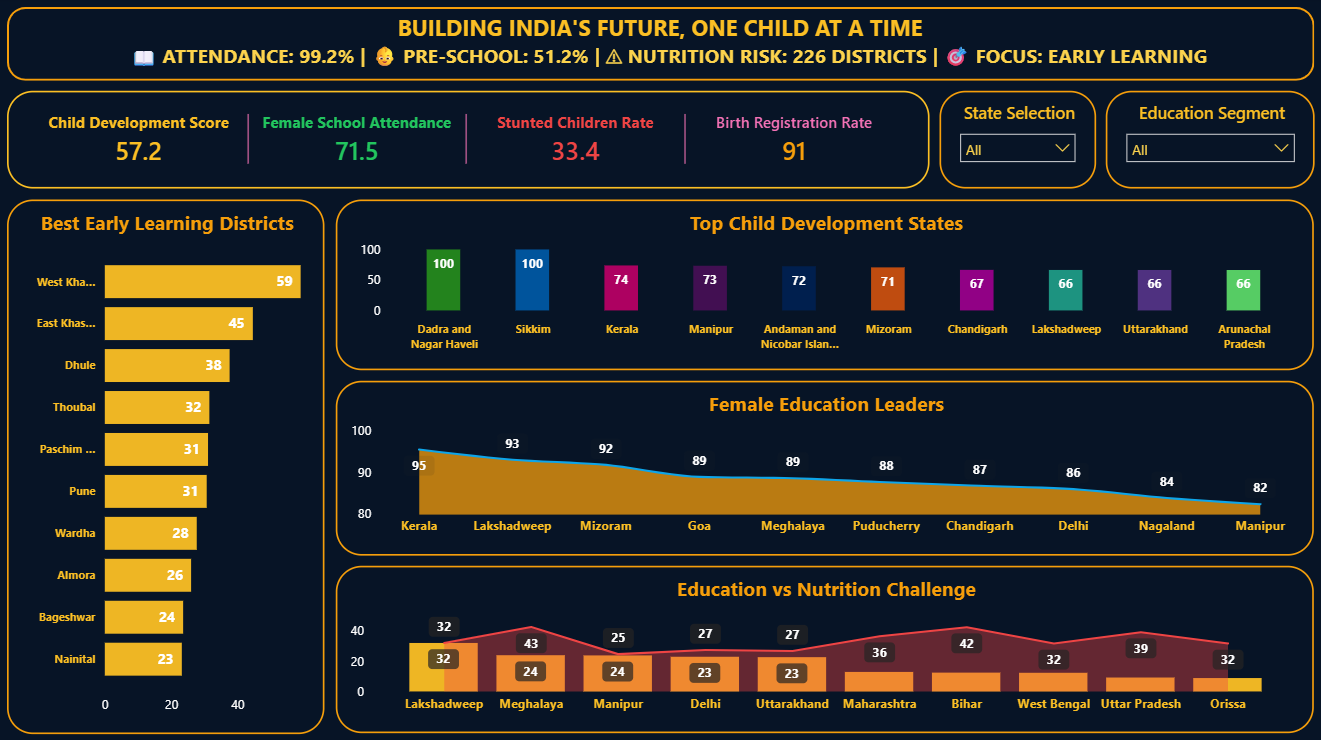

Layout of this report page (visuals, bound fields, positions):
{"tool":"powerbi","page":{"name":"Page 3","canvas":[1280,720],"ordinal":2},"visuals":[{"type":"textbox","box":[9.7,9.7,1260.7,84.5],"z":0},{"type":"cardVisual","fields":{"Data":["Page 3.Education Insight Bar"]},"box":[18.1,9.7,1261.9,92.9],"z":1000},{"type":"shape","box":[9.7,9.7,1261.9,71.2],"z":2000},{"type":"cardVisual","fields":{"Data":["Measure.Child Development Score","Page 3.Avg Female School Attendance","Page 3.Avg Stunting","Page 3.Birth Registration Rate"]},"box":[9.7,90.5,890.4,94.1],"z":3000},{"type":"slicer","title":"State Selection","fields":{"Values":["Dim_District_Profile.State"]},"box":[909.7,90.5,150.8,94.1],"z":4000},{"type":"slicer","title":"Education Segment","fields":{"Values":["Dim_District_Profile.Education Segment"]},"box":[1070.3,90.6,201.7,94.7],"z":5000},{"type":"clusteredBarChart","title":"Best Early Learning Districts","fields":{"Category":["Dim_District_Profile.District"],"Y":["Avg(Fact_Health_NFHS.Children under 5 years who are stunted (height-for-age)18 (%))"]},"box":[9.6,194.9,306,516],"z":6000},{"type":"lineClusteredColumnComboChart","title":"Education vs Nutrition Challenge","fields":{"Category":["Dim_District_Profile.State"],"Y":["Avg(Fact_Health_NFHS.Children age 5 years who attended pre-primary school during the school year 2019-20 (%))"],"Y2":["Avg(Fact_Health_NFHS.Children under 5 years who are stunted (height-for-age)18 (%))"]},"box":[326.6,548.9,944.1,161.9],"z":7000},{"type":"areaChart","title":"Female Education Leaders","fields":{"Category":["Dim_District_Profile.State"],"Y":["Avg(Fact_Health_NFHS.Female population age 6 years and above who ever attended school (%))"]},"box":[326.6,370.5,944.1,168.8],"z":8000},{"type":"ribbonChart","title":"Top Child Development States","fields":{"Category":["Dim_District_Profile.State"],"Y":["Measure.Child Development Score"],"Series":["Dim_District_Profile.State"]},"box":[326.6,194.9,944.1,164.7],"z":9000}]}

Visuals, with their boxes in screenshot pixels (x1, y1, x2, y2), scaled from the page's 1280x720 canvas onto the 1321x740 screenshot:
textbox: <region>10, 10, 1311, 97</region>
cardVisual - Page 3.Education Insight Bar: <region>19, 10, 1320, 105</region>
shape: <region>10, 10, 1312, 83</region>
cardVisual - Measure.Child Development Score x Page 3.Avg Female School Attendance: <region>10, 93, 929, 190</region>
"State Selection" slicer: <region>939, 93, 1094, 190</region>
"Education Segment" slicer: <region>1105, 93, 1313, 190</region>
"Best Early Learning Districts" clusteredBarChart: <region>10, 200, 326, 731</region>
"Education vs Nutrition Challenge" lineClusteredColumnComboChart: <region>337, 564, 1311, 731</region>
"Female Education Leaders" areaChart: <region>337, 381, 1311, 554</region>
"Top Child Development States" ribbonChart: <region>337, 200, 1311, 370</region>
